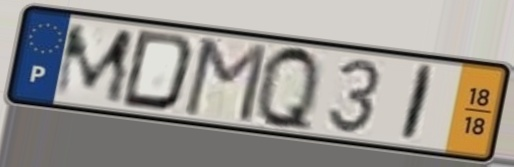3: (321, 56, 386, 136)
D: (117, 27, 198, 115)
I: (396, 62, 439, 145)
M: (179, 35, 272, 127), (49, 22, 138, 106)
Q: (254, 41, 323, 138)
